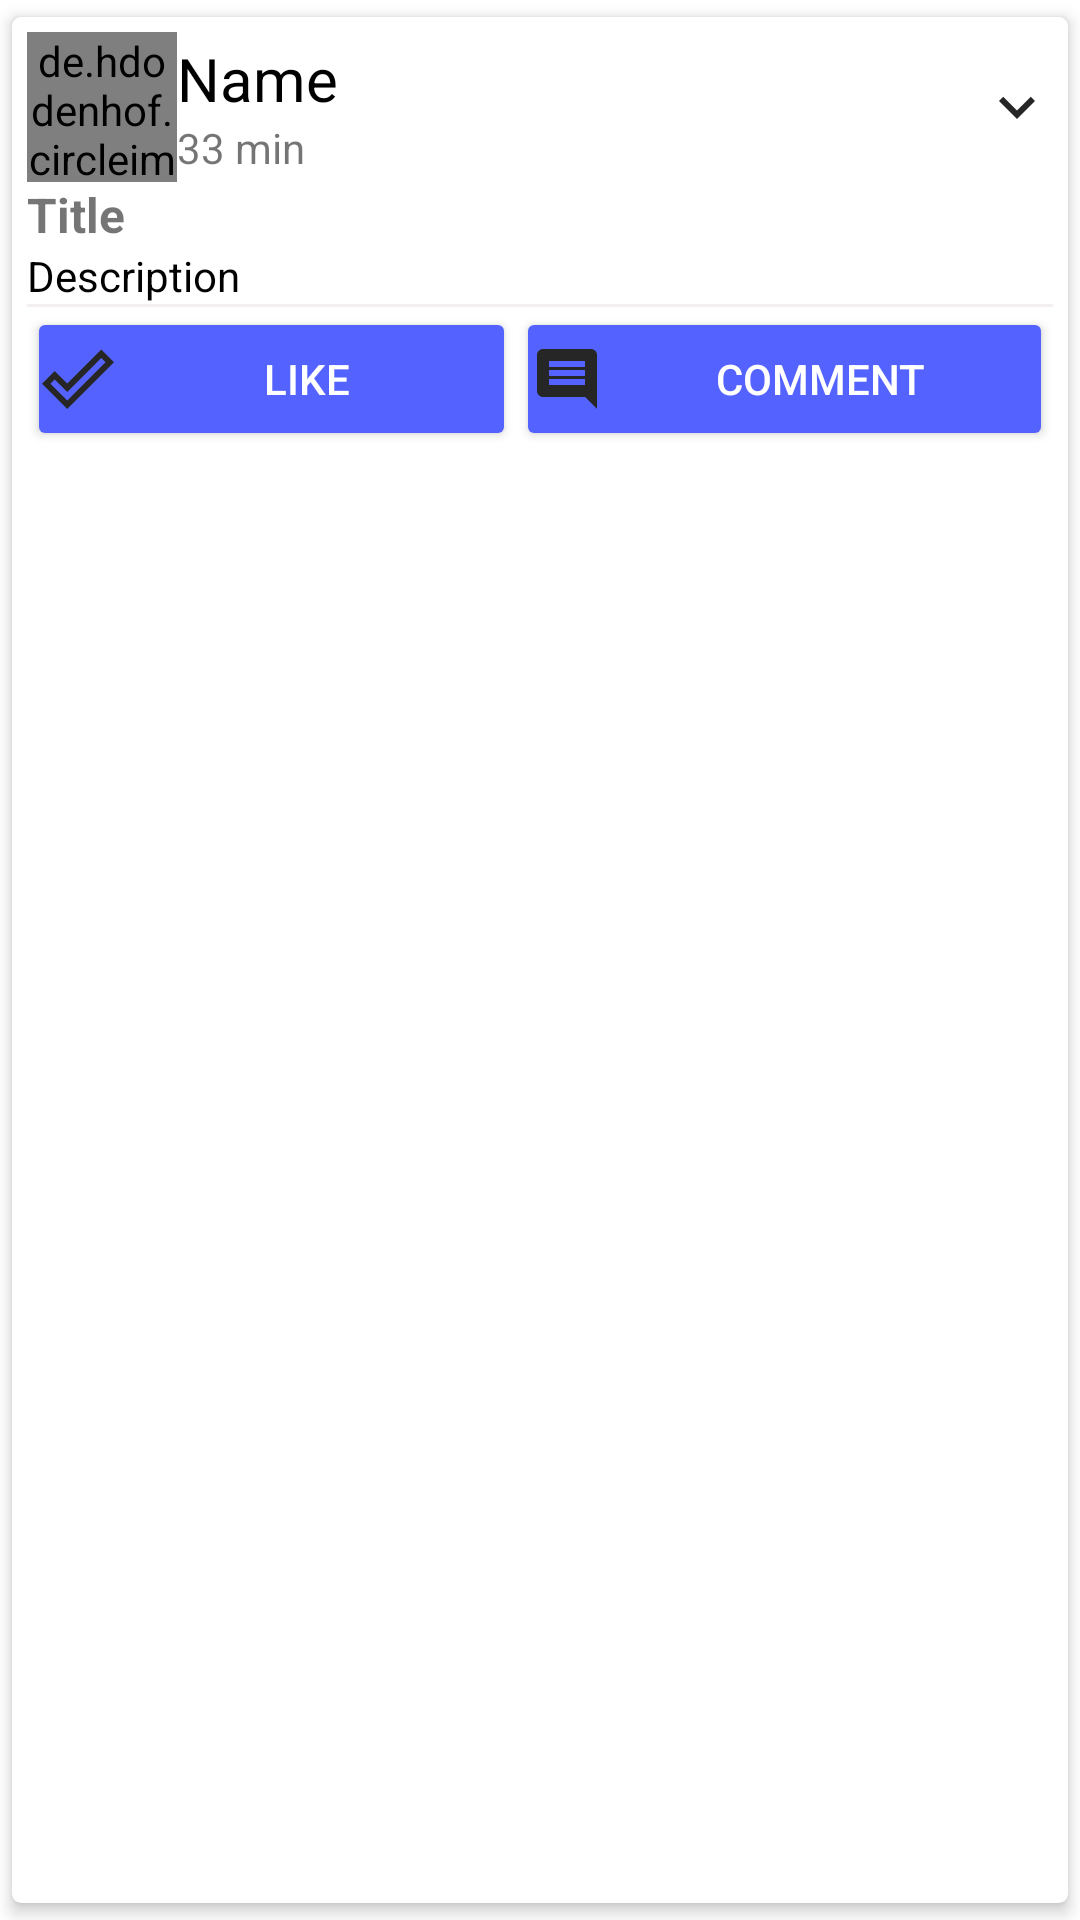

Screen size 1080px x 1920px. Icon name, then its center in pixels as (x,y):
more: (1017,108)
